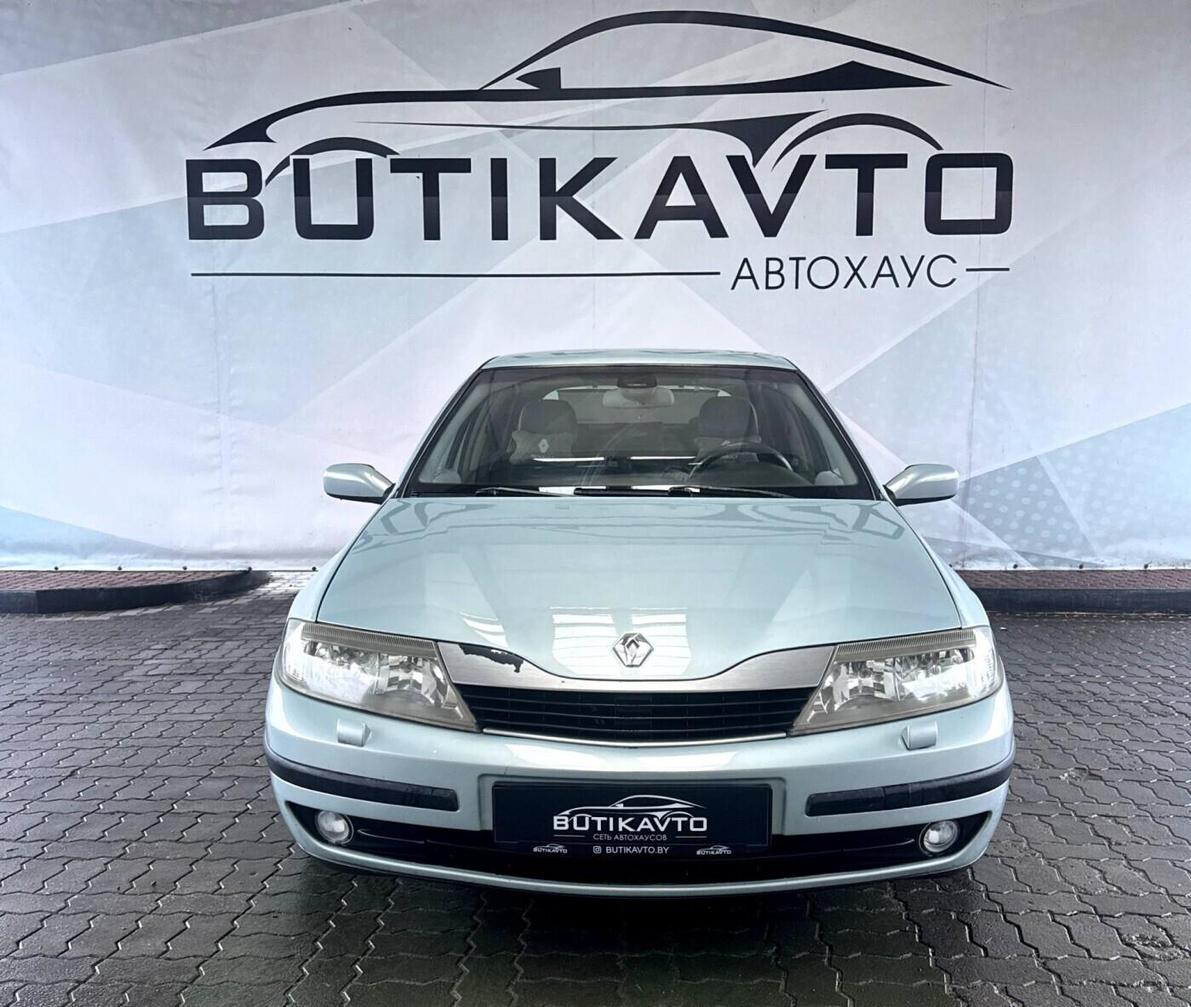Laguna_2001-2005: (266, 350, 1014, 896)
